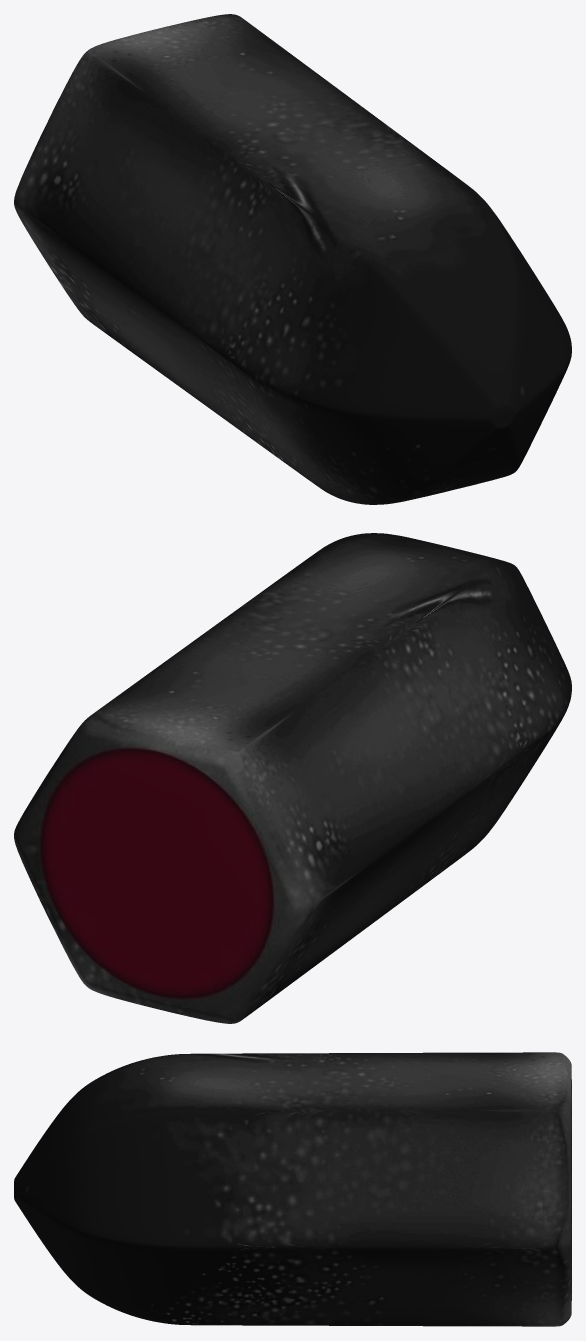
File: model_small.obj
3 views of the same model, one above another, from view 1: azimuth 30°, elevation 25°; view 2: azimuth 150°, elevation 25°; view 3: azimuth 270°, elevation 25° (orthographic). The views are drawn at different scales.
Parts seen in each view (by area): view 1: mmGroup0; view 2: mmGroup0; view 3: mmGroup0.
Boxes of the visible parts, x1=… form: mmGroup0: x1=14, y1=14, x2=571, y2=504; mmGroup0: x1=14, y1=533, x2=571, y2=1023; mmGroup0: x1=14, y1=1052, x2=571, y2=1326.
Bounding box in the file's own units: 2.42 × 2.15 × 4.92.
Materials: 1 (1 with a texture image).
